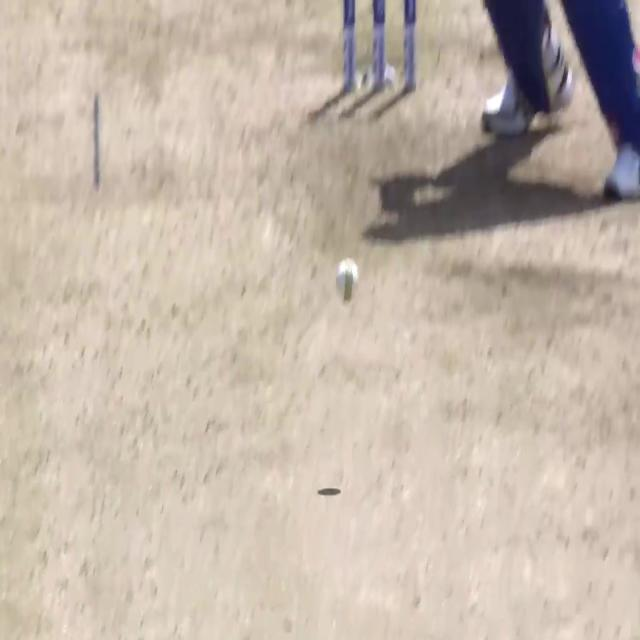ball: (336, 257, 360, 302)
